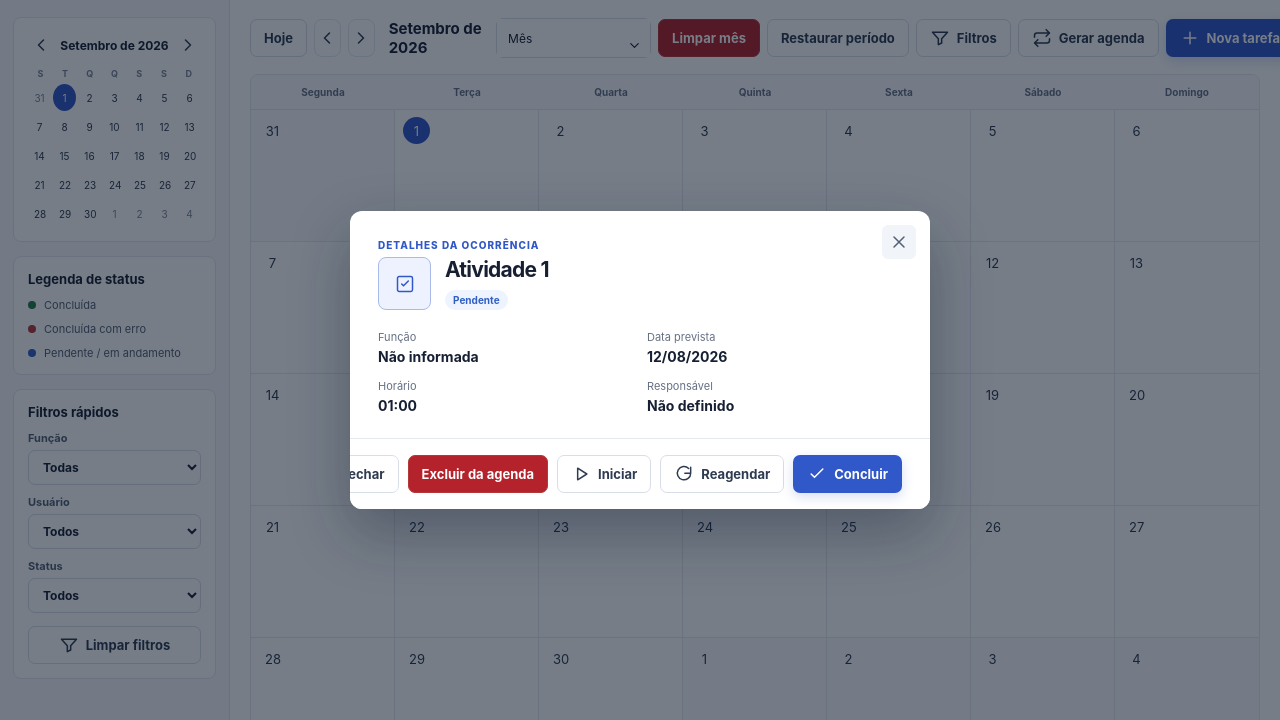
Scenario: CalendarComponent › warns that deleting one occurrence prevents its original date from being regenerated
Click the button "Excluir da agenda": (478, 474) [408,455,548,493]
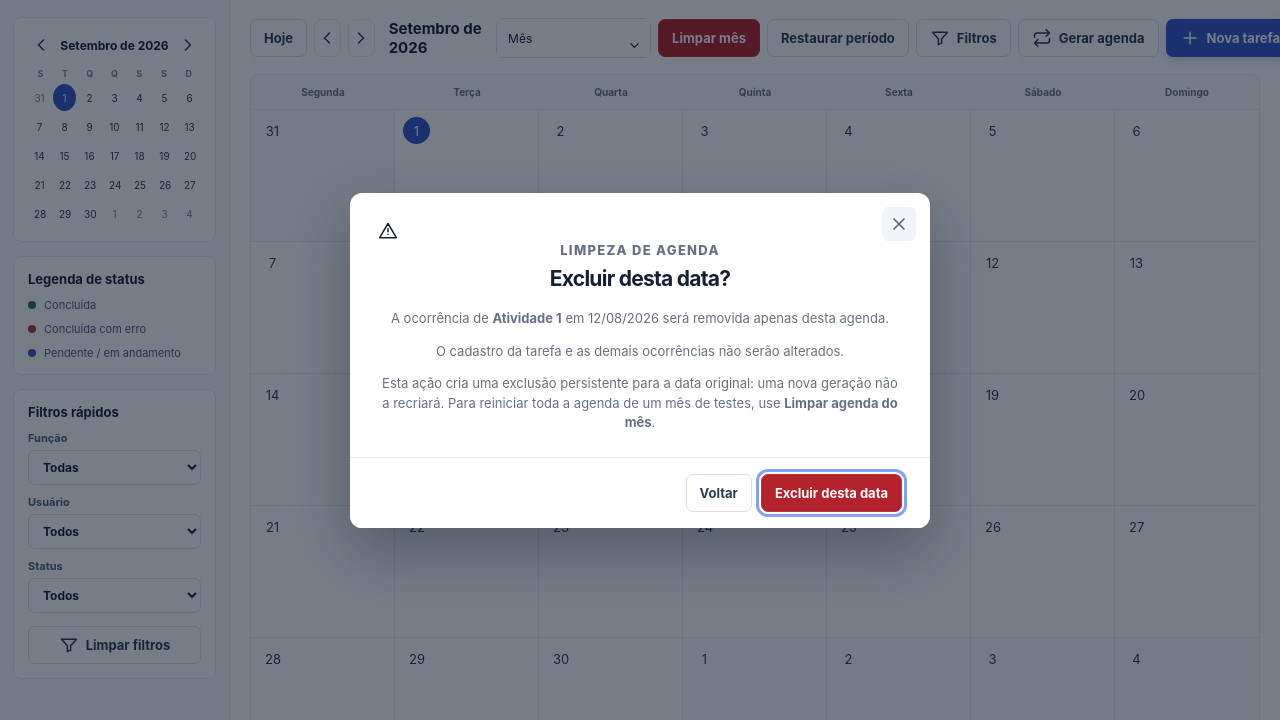
Now the dialog with class "occurrence-modal" shows "cria uma exclusão persistente", box [382,375,898,410]
Now the dialog with class "occurrence-modal" shows "Limpar agenda do mês", box [625,394,898,430]
